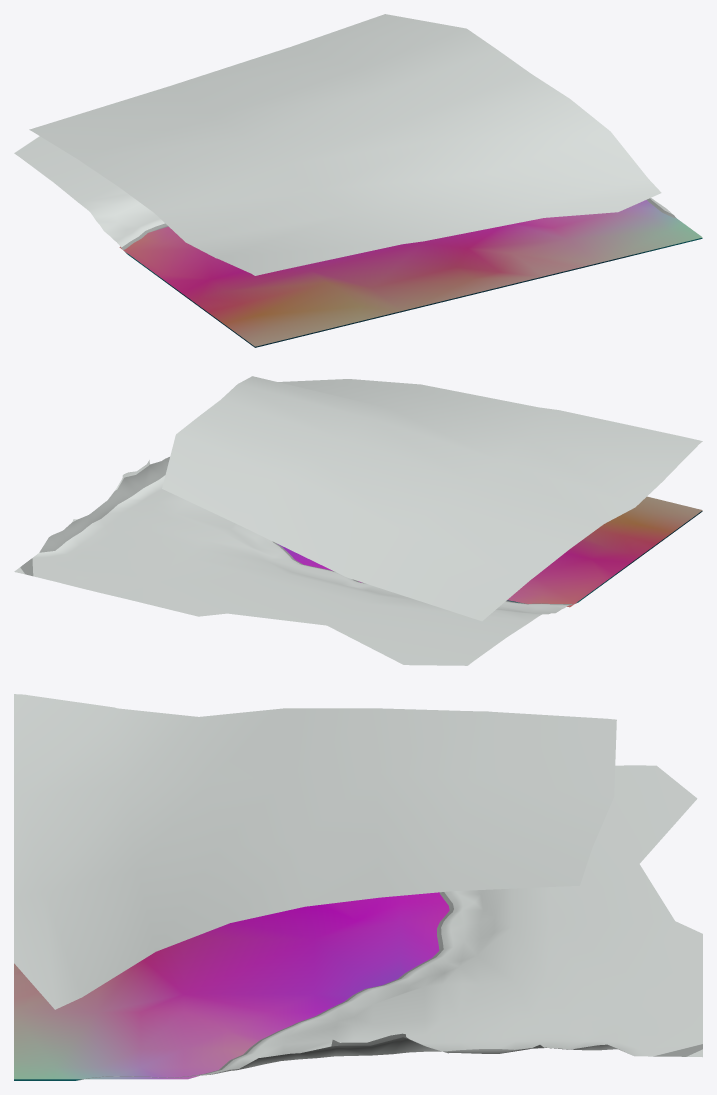
3 views of the same model, one above another, from view 1: azimuth 30°, elevation 25°; view 2: azimuth 150°, elevation 25°; view 3: azimuth 270°, elevation 25° (orthographic). The views are drawn at different scales.
Visible parts, largest first — view 1: G:\FFXIV-MapTools\exports\r2f1\bg\ex1\01_roc_r2\fld\r2f1\bgp (×3); view 2: G:\FFXIV-MapTools\exports\r2f1\bg\ex1\01_roc_r2\fld\r2f1\bgp (×3); view 3: G:\FFXIV-MapTools\exports\r2f1\bg\ex1\01_roc_r2\fld\r2f1\bgp (×4).
Boxes of the visible parts, x1,y1,x2,y2 form: G:\FFXIV-MapTools\exports\r2f1\bg\ex1\01_roc_r2\fld\r2f1\bgp (×3): (14, 14, 702, 347); G:\FFXIV-MapTools\exports\r2f1\bg\ex1\01_roc_r2\fld\r2f1\bgp (×3): (20, 376, 702, 665); G:\FFXIV-MapTools\exports\r2f1\bg\ex1\01_roc_r2\fld\r2f1\bgp (×4): (14, 694, 702, 1079).
Bounding box in the file's own units: 128 × 29.31 × 128.
